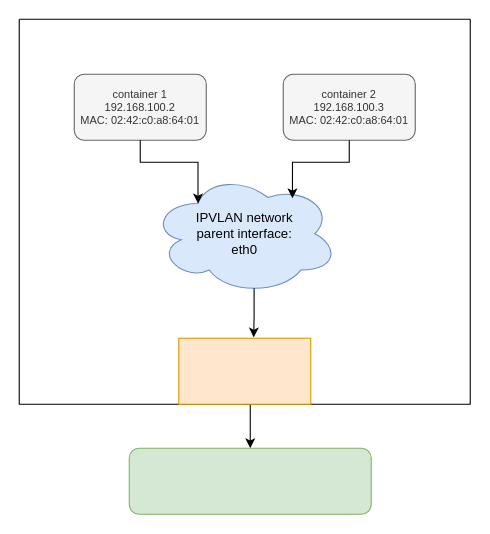
Image size: 490x534. Some labels were removed from this diagram. Here are the shapes that lost their labels. From the top down, the box of each, then its label:
(178, 337, 311, 404): eth0 192.168.100.33 MAC: 02:42:c0:a8:64:01
(128, 447, 371, 514): Physical network Subnet:192.168.100.0/24 Gateway:192.168.100.1
